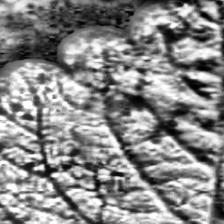Angular Leafspot: (47, 0, 224, 173)
